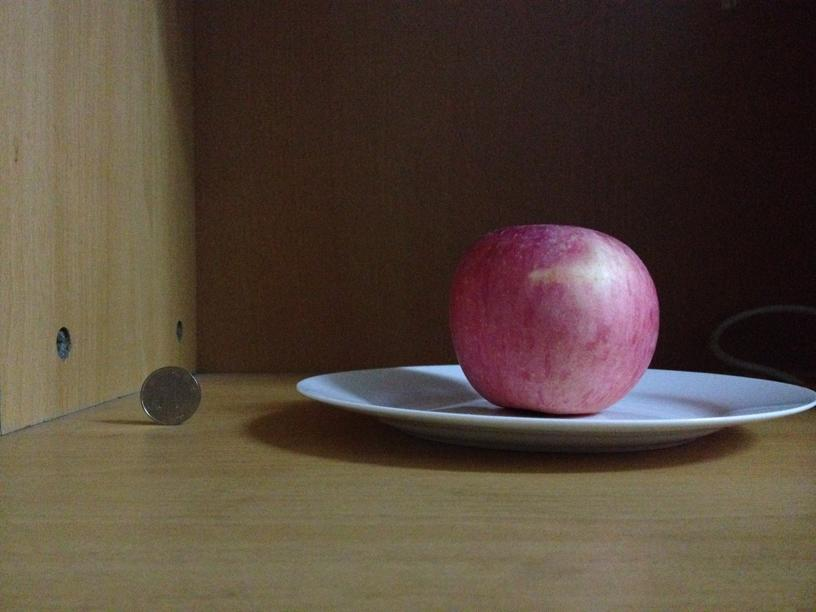apple: (447, 227, 662, 415)
coin: (138, 365, 202, 424)
